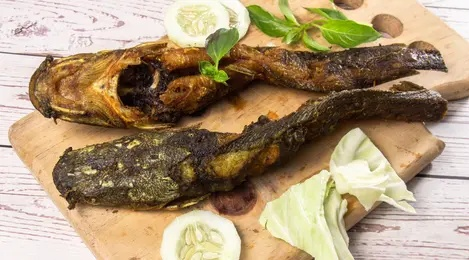pecel_lele: (21, 37, 449, 124), (43, 120, 272, 208)
